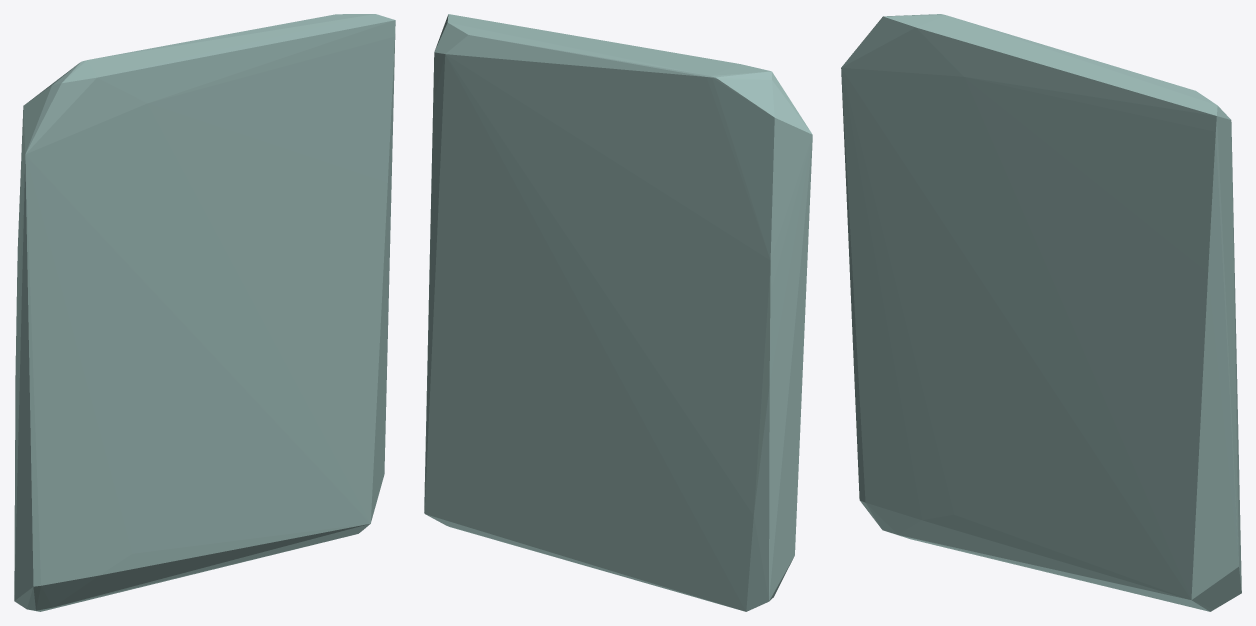
File: paper_stack_a04.glb
The picture shows the model from 3 angles, left to right: view 1: azimuth 30°, elevation 25°; view 2: azimuth 150°, elevation 25°; view 3: azimuth 330°, elevation 25°; orthographic projection. The views are drawn at different scales.
Parts seen in each view (by area): view 1: geometry_0; view 2: geometry_0; view 3: geometry_0.
Part boxes in pixels (box(x1,y1,x2,y2)): geometry_0: box(14, 14, 395, 611); geometry_0: box(424, 14, 812, 611); geometry_0: box(841, 14, 1241, 611).
Bounding box in the file's own units: 0.3473 × 0.4761 × 0.0509.
